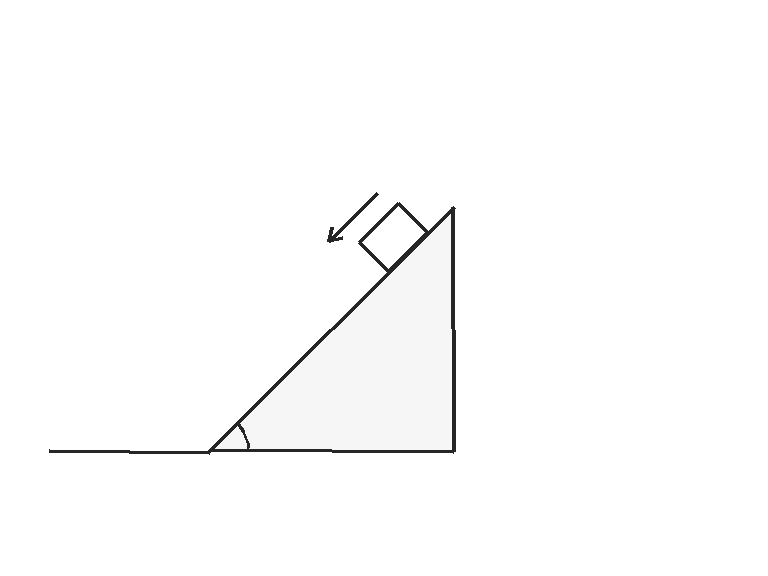block: (357, 201, 429, 273)
ramp: (206, 204, 455, 453)
